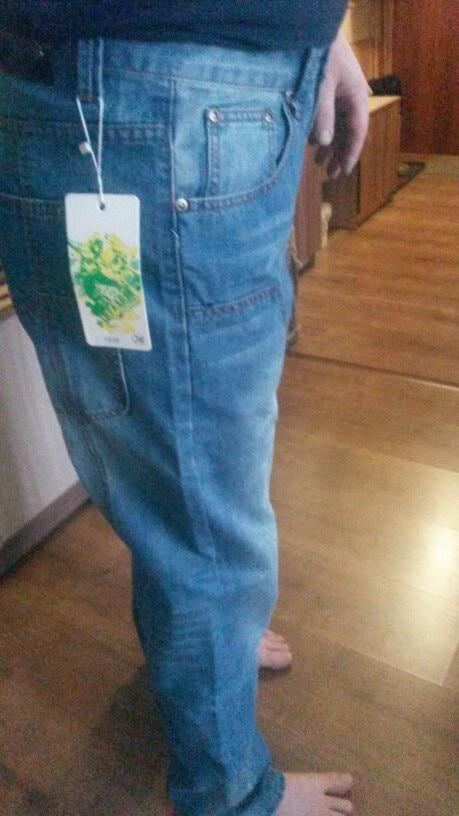jeans: (25, 33, 300, 816)
